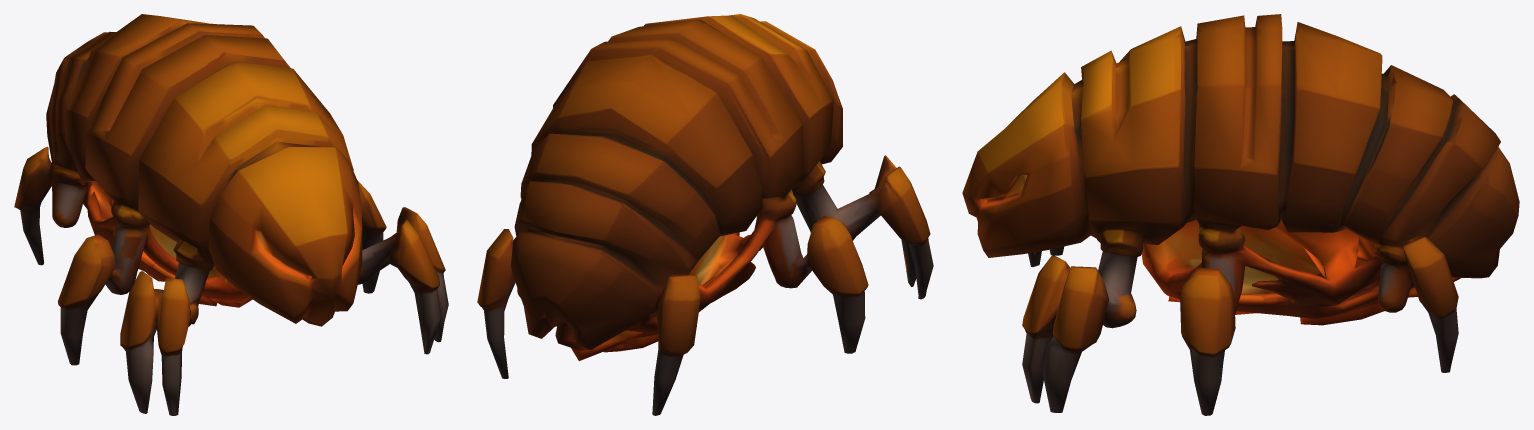
Rendered from monster_self_destruct.glb.
3 views of the same model, side by side, from view 1: azimuth 30°, elevation 25°; view 2: azimuth 150°, elevation 25°; view 3: azimuth 270°, elevation 25° (orthographic). The views are drawn at different scales.
Visible parts, largest first — view 1: mesh_rep_0_ori_repair_quad; view 2: mesh_rep_0_ori_repair_quad; view 3: mesh_rep_0_ori_repair_quad.
Boxes of the visible parts, x1,y1,x2,y2 form: mesh_rep_0_ori_repair_quad: (14,14,448,415); mesh_rep_0_ori_repair_quad: (477,14,933,415); mesh_rep_0_ori_repair_quad: (962,14,1519,415).
Bounding box in the file's own units: 76.85 × 63.9 × 105.
Materials: 1 (1 with a texture image).
